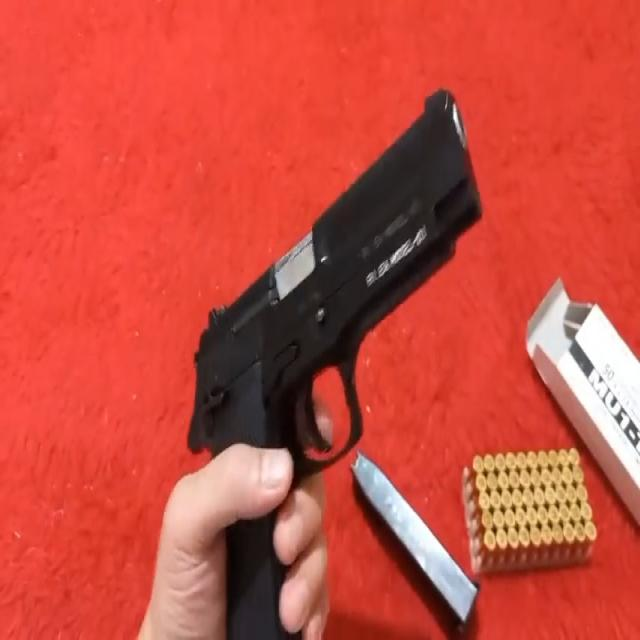handgun: (192, 71, 499, 638)
